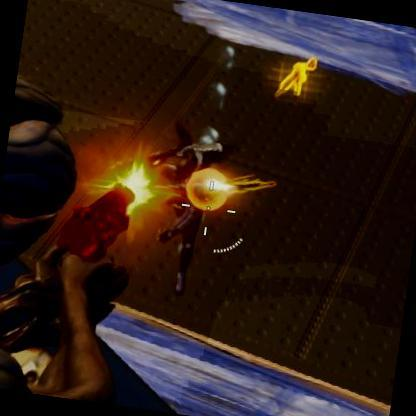person: (148, 131, 224, 300), (154, 200, 204, 300)
